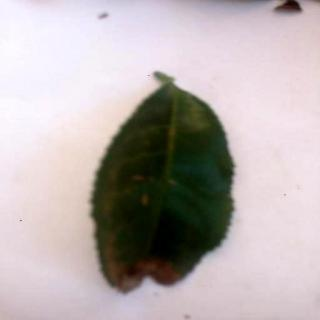Brown Blight: (92, 72, 236, 296)
